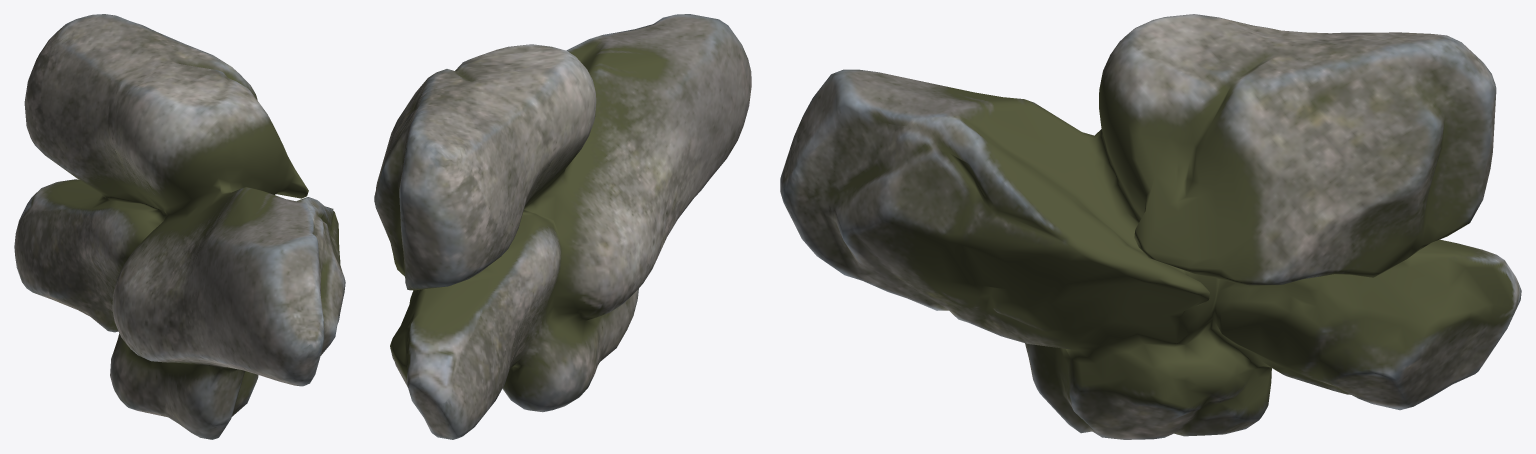
The model's file is kamyczki.fbx.
3 views of the same model, side by side, from view 1: azimuth 30°, elevation 25°; view 2: azimuth 150°, elevation 25°; view 3: azimuth 270°, elevation 25° (orthographic). The views are drawn at different scales.
Parts seen in each view (by area): view 1: kamyczki; view 2: kamyczki; view 3: kamyczki.
Boxes of the visible parts, bbox=[...] form: kamyczki: bbox=[14, 14, 345, 439]; kamyczki: bbox=[374, 14, 751, 439]; kamyczki: bbox=[780, 14, 1521, 439].
Bounding box in the file's own units: 218 × 332 × 546.
